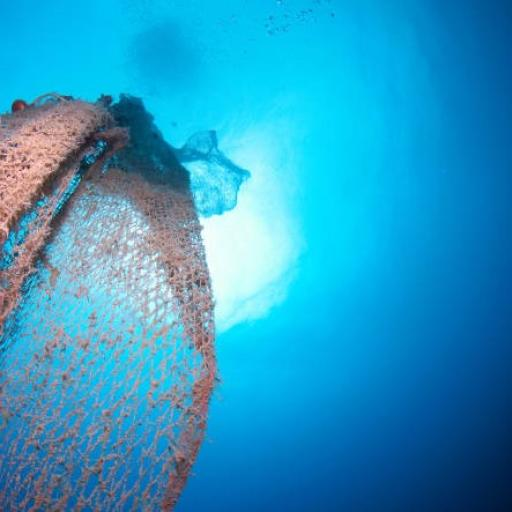net: (0, 85, 213, 512)
